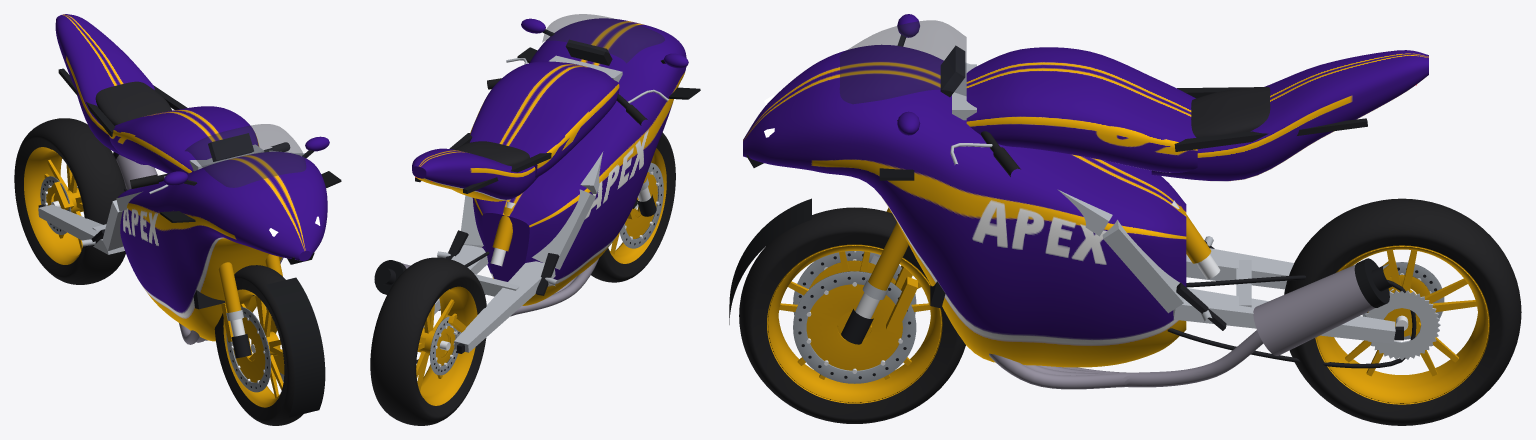
File: apex-superbike.glb
The picture shows the model from 3 angles, left to right: view 1: azimuth 30°, elevation 25°; view 2: azimuth 150°, elevation 25°; view 3: azimuth 270°, elevation 25°; orthographic projection. The views are drawn at different scales.
Parts seen in each view (by area): view 1: Body_Apex_Livery_Paint, Wheel_Rear_Tyre_Rubber, Body_Smoked_Windscreen, Steer_Front_Carbon_Fibre, Wheel_Front_Tyre_Rubber, Wheel_Rear_Apex_Gold_Anodized, Wheel_Front_Apex_Gold_Anodized, Body_Brushed_Aluminium, Body_Seat_Alcantara, Body_Black_Satin, Steer_Front_Black_Satin, Steer_Front_Apex_Gold_Anodized (+8 smaller); view 2: Body_Apex_Livery_Paint, Wheel_Rear_Tyre_Rubber, Body_Brushed_Aluminium, Wheel_Rear_Apex_Gold_Anodized, Body_Smoked_Windscreen, Body_Apex_Violet_Gloss, Wheel_Front_Tyre_Rubber, Body_Black_Satin, Wheel_Front_Apex_Gold_Anodized, Steer_Front_Black_Satin, Body_Carbon_Fibre, Body_Seat_Alcantara (+5 smaller); view 3: Body_Apex_Livery_Paint, Wheel_Rear_Tyre_Rubber, Wheel_Front_Tyre_Rubber, Wheel_Front_Apex_Gold_Anodized, Body_Titanium_Exhaust, Wheel_Rear_Apex_Gold_Anodized, Body_Brushed_Aluminium, Body_Smoked_Windscreen, Body_Black_Satin, Wheel_Front_Brake_Disc_Steel, Body_Seat_Alcantara, Wheel_Rear_Brushed_Aluminium (+7 smaller).
Boxes of the visible parts, box(x1,y1,x2,y2) form: Body_Apex_Livery_Paint: box(55, 14, 327, 341); Wheel_Rear_Tyre_Rubber: box(14, 118, 125, 284); Body_Smoked_Windscreen: box(185, 124, 305, 187); Steer_Front_Carbon_Fibre: box(266, 277, 325, 417); Wheel_Front_Tyre_Rubber: box(214, 265, 303, 425); Wheel_Rear_Apex_Gold_Anodized: box(24, 147, 83, 264); Wheel_Front_Apex_Gold_Anodized: box(223, 289, 284, 407); Body_Brushed_Aluminium: box(38, 191, 142, 254); Body_Seat_Alcantara: box(95, 81, 171, 125); Body_Black_Satin: box(38, 68, 314, 309); Steer_Front_Black_Satin: box(157, 133, 274, 358); Steer_Front_Apex_Gold_Anodized: box(218, 254, 282, 341); Body_Apex_Livery_Paint: box(412, 18, 686, 305); Wheel_Rear_Tyre_Rubber: box(370, 257, 486, 425); Body_Brushed_Aluminium: box(434, 151, 603, 352); Wheel_Rear_Apex_Gold_Anodized: box(416, 286, 477, 405); Body_Smoked_Windscreen: box(542, 14, 664, 62); Body_Apex_Violet_Gloss: box(412, 18, 688, 281); Wheel_Front_Tyre_Rubber: box(591, 132, 675, 282); Body_Black_Satin: box(383, 29, 665, 363); Wheel_Front_Apex_Gold_Anodized: box(609, 148, 666, 263); Steer_Front_Black_Satin: box(565, 39, 656, 216); Body_Carbon_Fibre: box(374, 47, 700, 294); Body_Seat_Alcantara: box(455, 141, 529, 165); Body_Apex_Livery_Paint: box(743, 44, 1428, 367); Wheel_Rear_Tyre_Rubber: box(1284, 198, 1521, 425); Wheel_Front_Tyre_Rubber: box(739, 207, 965, 423); Wheel_Front_Apex_Gold_Anodized: box(767, 244, 942, 403); Body_Titanium_Exhaust: box(989, 264, 1374, 389); Wheel_Rear_Apex_Gold_Anodized: box(1315, 245, 1489, 404); Body_Brushed_Aluminium: box(1057, 189, 1395, 343); Body_Smoked_Windscreen: box(840, 20, 966, 103); Body_Black_Satin: box(746, 35, 1416, 368); Wheel_Front_Brake_Disc_Steel: box(793, 251, 916, 383); Body_Seat_Alcantara: box(1191, 86, 1270, 137); Wheel_Rear_Brushed_Aluminium: box(1365, 290, 1440, 359).
Bounding box in the file's own units: 0.7182 × 1.09 × 2.05.
15 materials, 1 textured.
